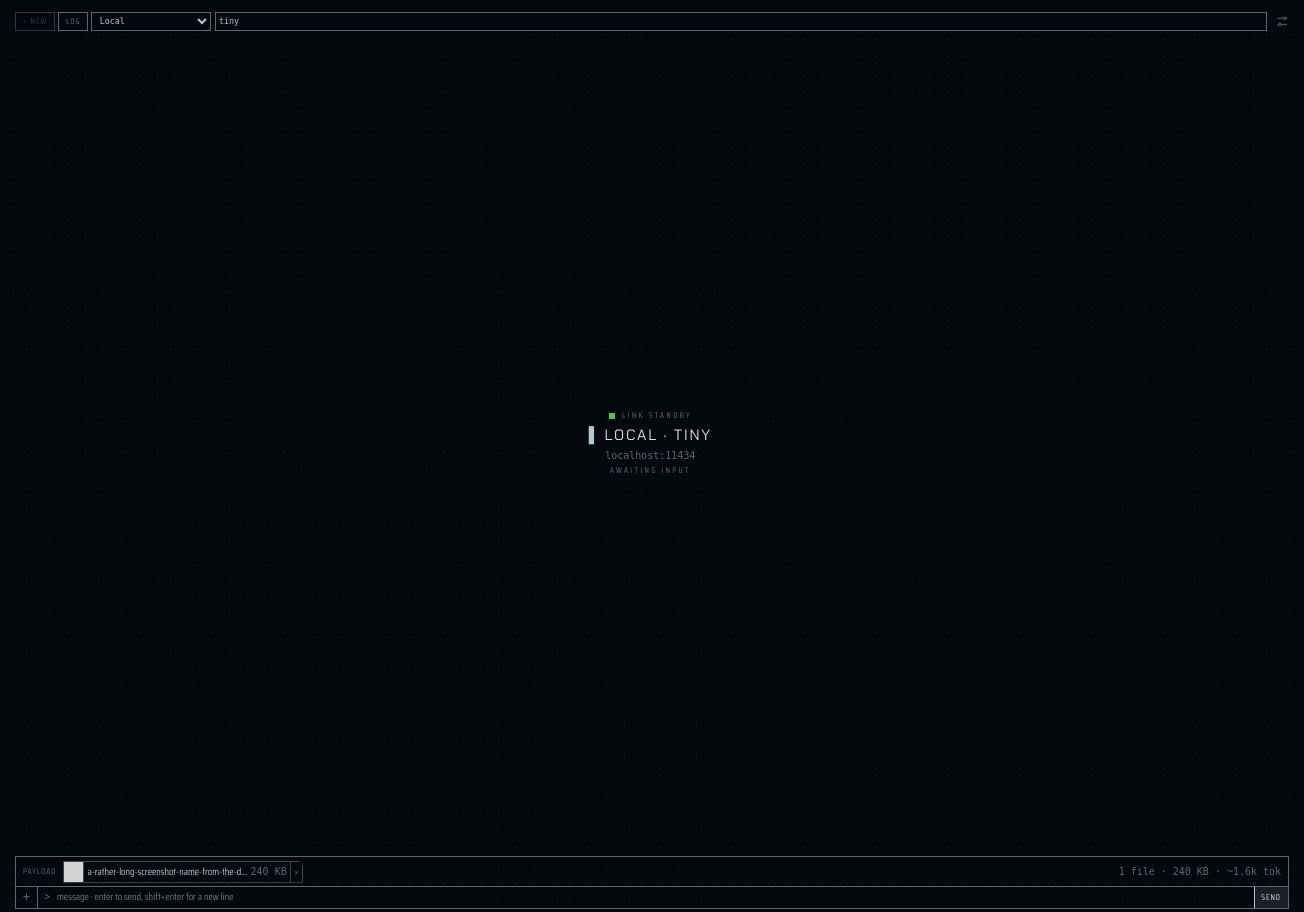
it: AiChatWidget files › a send refused for a file main let go shows again what main holds
Click the button with test id "aichat-send" at (1271, 897), box [1254, 887, 1288, 908]
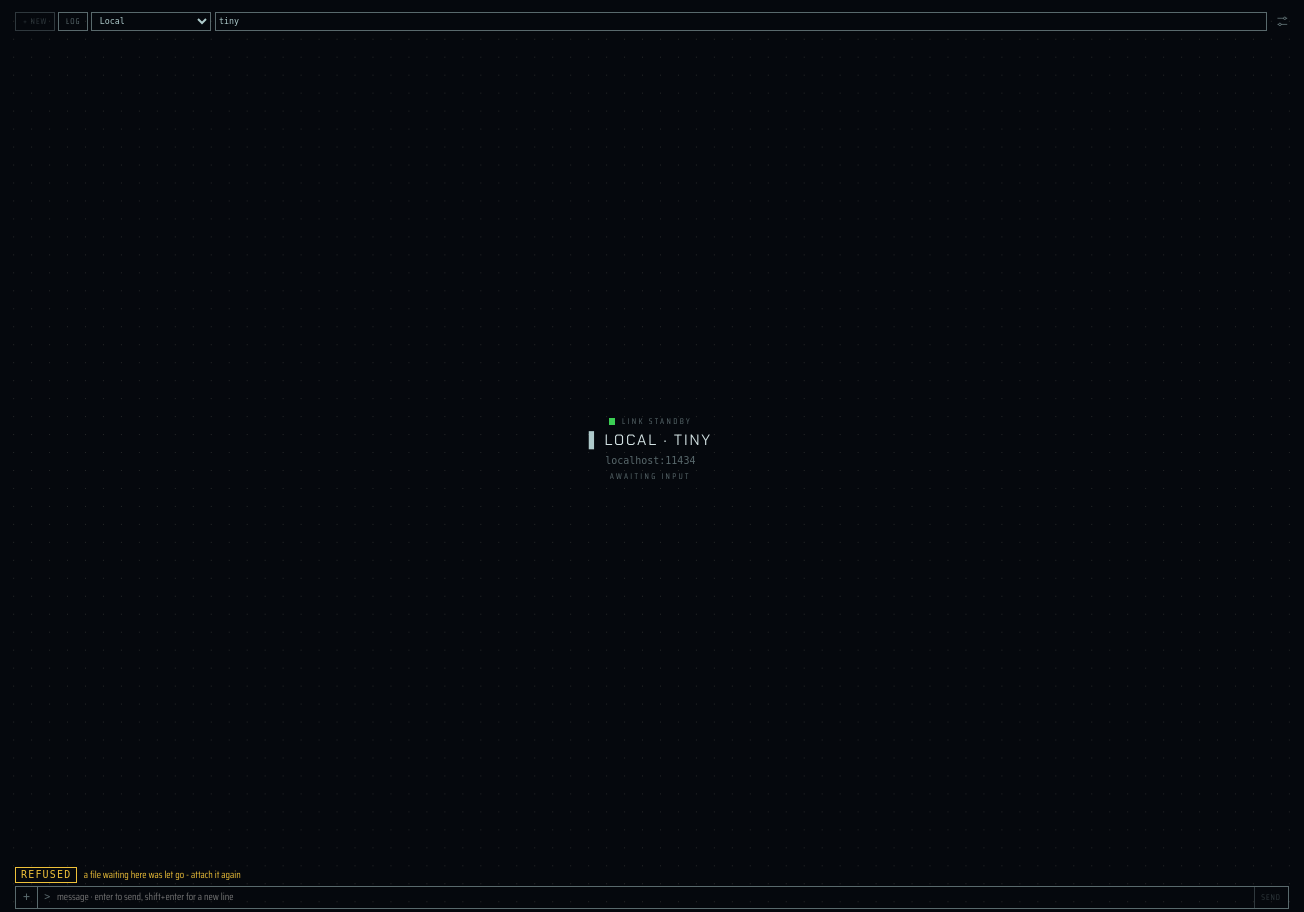
Expected: the element with test id "aichat-problem" shows "was let go", [84, 867, 241, 882]
Expected: the element with test id "aichat-payload" is gone
